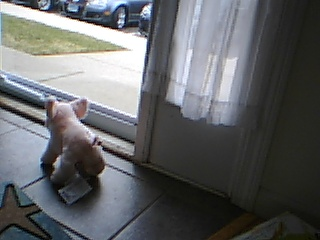piggy: (39, 94, 106, 186)
